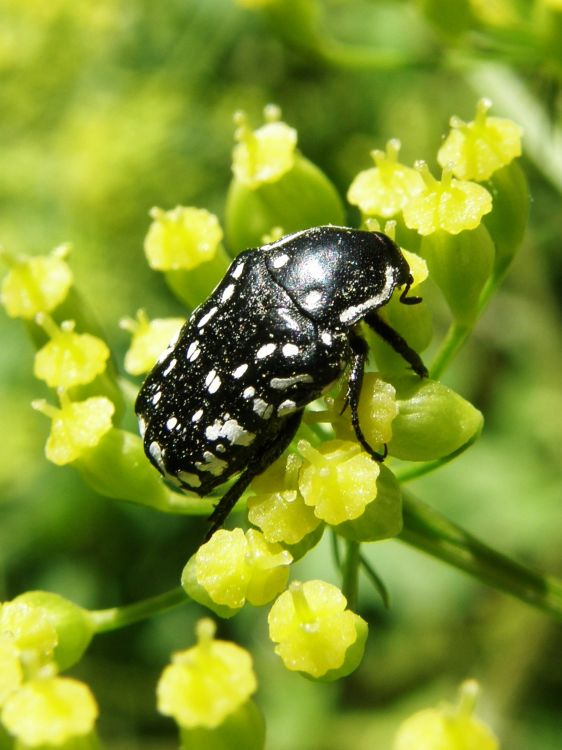Oxythyrea_cinctella: (132, 217, 435, 544)
